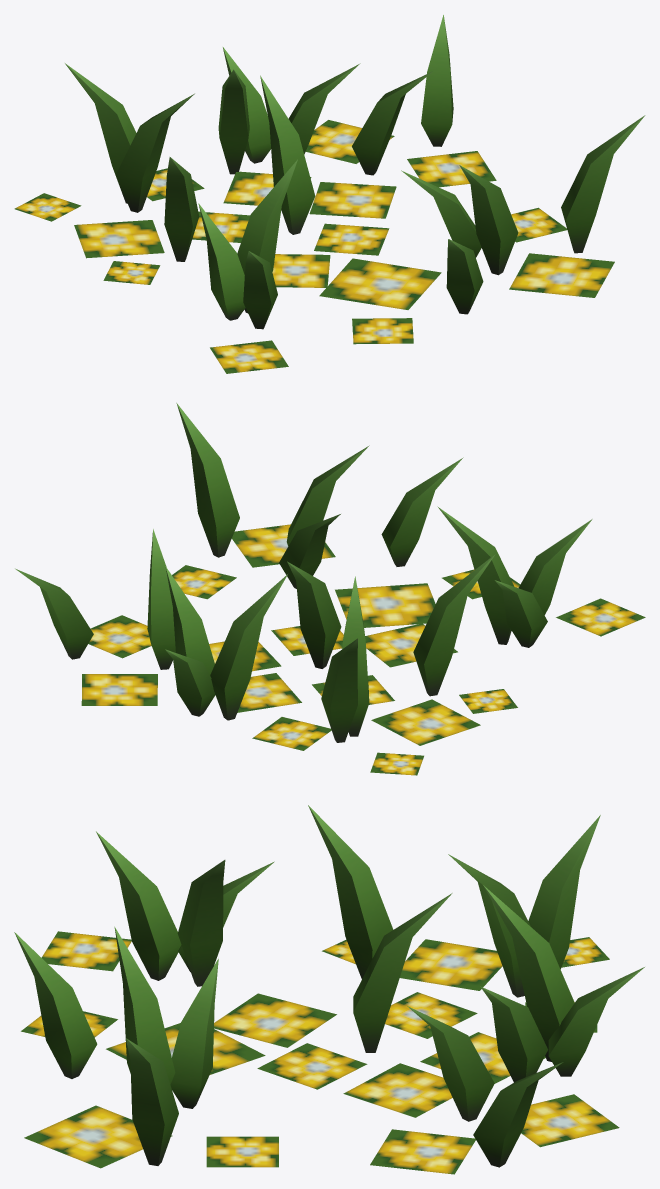
File: deco_flowersSmall_yellow.FBX
3 renders of one model, top to bottom at view 1: azimuth 30°, elevation 25°; view 2: azimuth 150°, elevation 25°; view 3: azimuth 270°, elevation 25°, orthographic. The views are drawn at different scales.
Parts seen in each view (by area): view 1: deco_flowersSmall_yellow; view 2: deco_flowersSmall_yellow; view 3: deco_flowersSmall_yellow.
Part boxes in pixels (left/top/right/bottom): deco_flowersSmall_yellow: left=14, top=15, right=645, bottom=373; deco_flowersSmall_yellow: left=15, top=403, right=645, bottom=775; deco_flowersSmall_yellow: left=14, top=805, right=644, bottom=1174.
Size of the model in its own units: 1.94 by 0.5481 by 1.98.
1 material, 1 textured.
